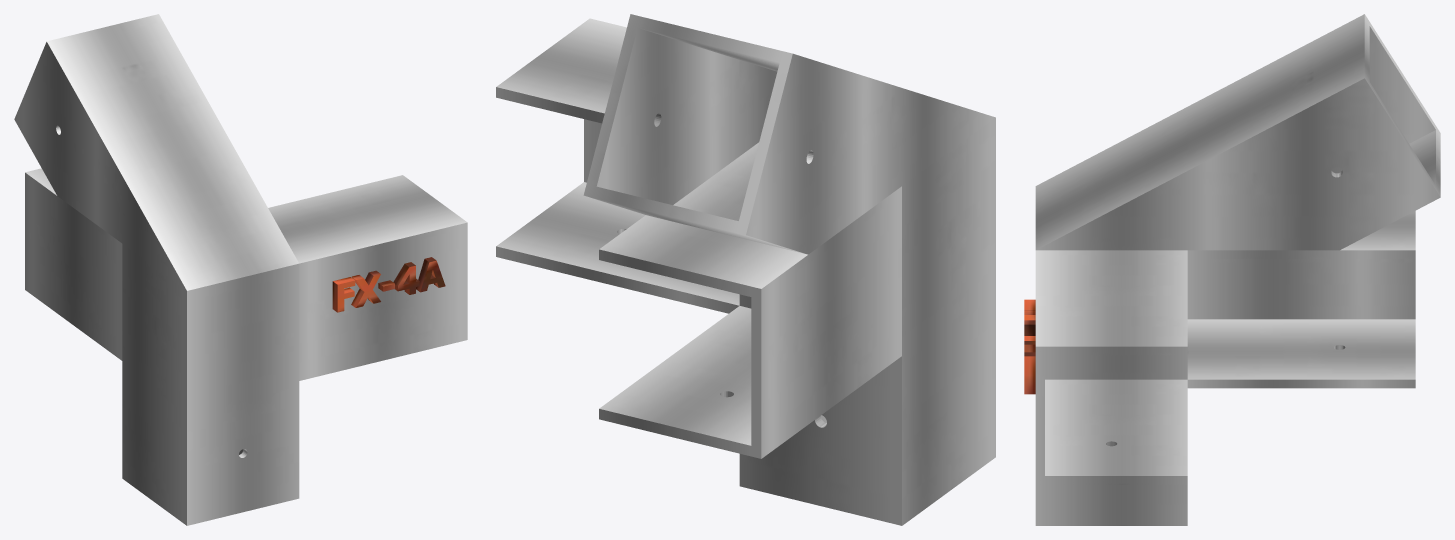
Rendered from FLEX MINI FX 4A.glb.
3 views of the same model, side by side, from view 1: azimuth 30°, elevation 25°; view 2: azimuth 150°, elevation 25°; view 3: azimuth 270°, elevation 25° (orthographic). The views are drawn at different scales.
Visible parts, largest first — view 1: G-Object.003, G-Object, G-Object.002, G-Object.001, C-FX-4A; view 2: G-Object.003, G-Object.001, G-Object, G-Object.002; view 3: G-Object.003, G-Object.001, G-Object.002, G-Object, C-FX-4A.
Part boxes in pixels (bbox=[...]): G-Object.003: bbox=[14, 14, 298, 290]; G-Object: bbox=[122, 244, 299, 525]; G-Object.002: bbox=[268, 175, 467, 380]; G-Object.001: bbox=[25, 168, 122, 360]; C-FX-4A: bbox=[332, 257, 445, 312]; G-Object.003: bbox=[583, 14, 995, 254]; G-Object.001: bbox=[599, 149, 901, 458]; G-Object: bbox=[739, 117, 995, 525]; G-Object.002: bbox=[496, 18, 739, 313]; G-Object.003: bbox=[1035, 14, 1440, 250]; G-Object.001: bbox=[1187, 211, 1415, 388]; G-Object.002: bbox=[1035, 250, 1187, 484]; G-Object: bbox=[1035, 355, 1187, 525]; C-FX-4A: bbox=[1024, 299, 1035, 394].
Size of the model in its own units: 0.1 by 0.13 by 0.1096.
2 materials, 2 textured.
